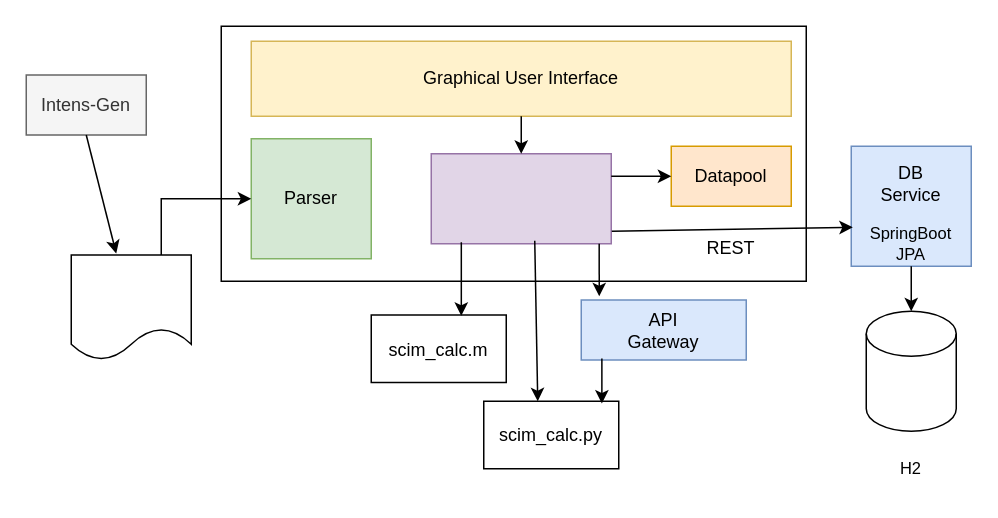
The diagram is 998 pixels wide and 518 high, and some of its shapes have lost their labels. The shapes that lost their labels are listed below. From the top down, each one's centre as x and y in pixels, then its label:
At [520,198]: "Controller".
At [130,307]: "Configuration".
At [910,370]: "DB".
